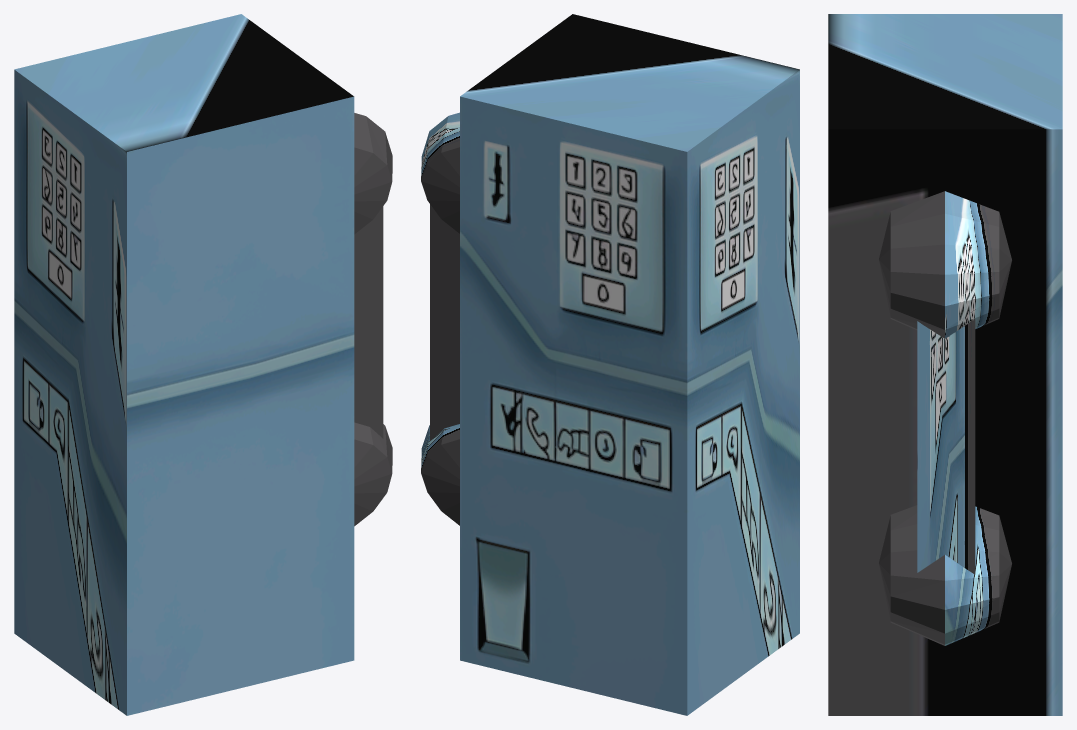
The model's file is Payphone.glb.
3 renders of one model, left to right at view 1: azimuth 30°, elevation 25°; view 2: azimuth 150°, elevation 25°; view 3: azimuth 270°, elevation 25°, orthographic. The views are drawn at different scales.
Visible parts, largest first — view 1: Payphone; view 2: Payphone; view 3: Payphone.
Boxes of the visible parts, x1,y1,x2,y2 form: Payphone: (14, 14, 392, 715); Payphone: (421, 14, 799, 715); Payphone: (828, 14, 1062, 715).
Bounding box in the file's own units: 43.81 × 73.32 × 26.57.
1 material, 1 textured.
